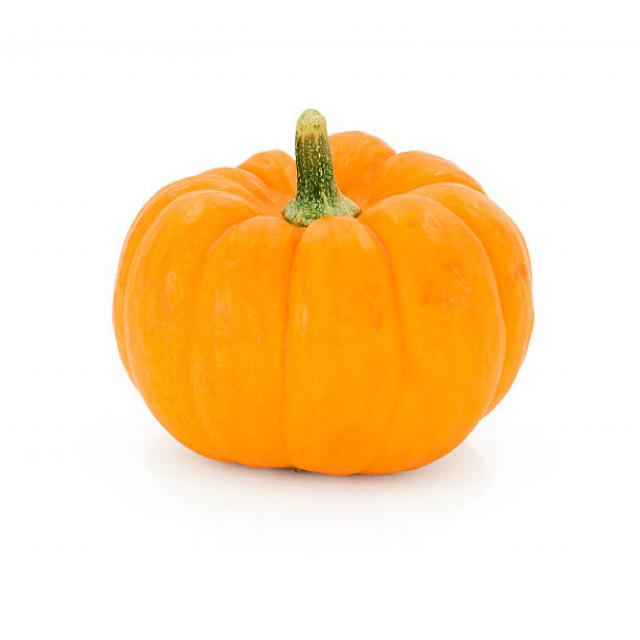Pumpkin: (105, 116, 539, 486)
